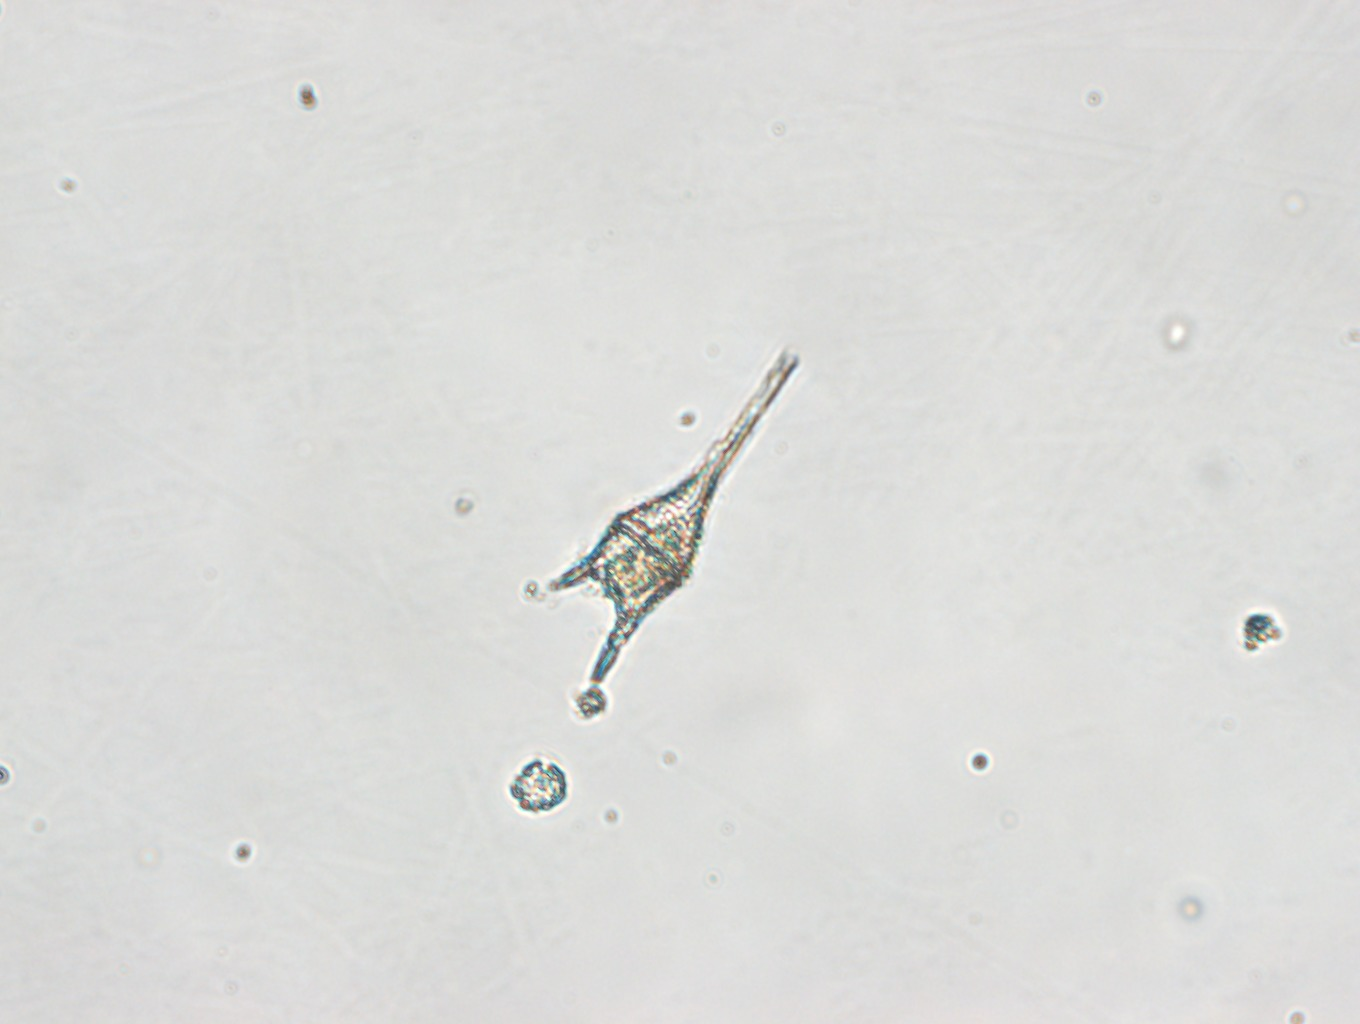ceratium furca: (544, 340, 805, 683)
